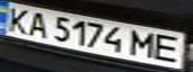1: (66, 18, 87, 46)
4: (103, 24, 127, 54)
5: (48, 14, 72, 43)
7: (84, 19, 106, 49)
A: (21, 9, 51, 38)
E: (151, 33, 187, 63)
K: (0, 5, 33, 35)
M: (127, 28, 160, 58)
